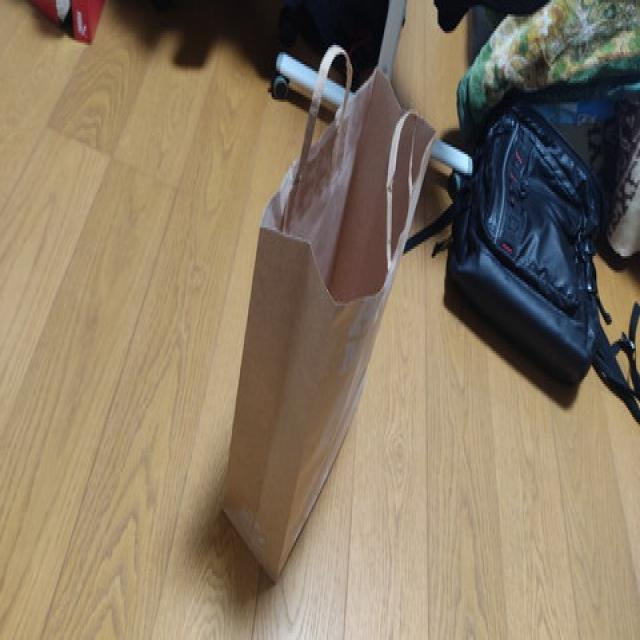paper bag: (217, 32, 436, 591)
